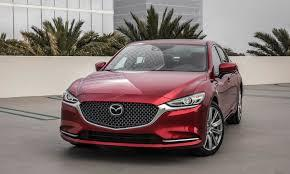mazda: (107, 100, 124, 117)
